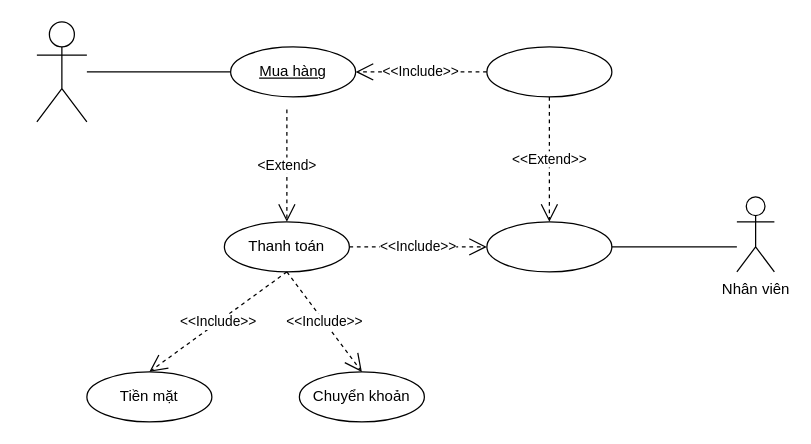
The diagram is 811 pixels wide and 444 high, and some of its shapes have lost their labels. The shapes that lost their labels are listed below. From the top down, each one's centre as x and y in pixels, then its label:
[61,71]: Khách hàng
[549,71]: Sản phẩm
[549,246]: Hóa Đơn
